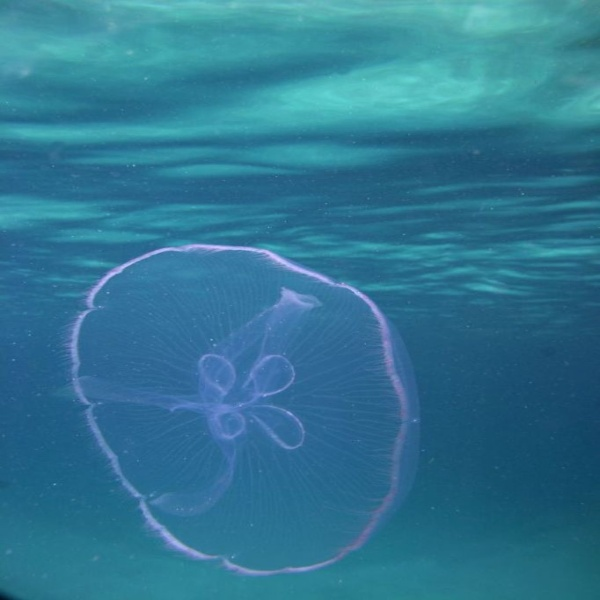Jellyfish: (51, 242, 421, 577)
